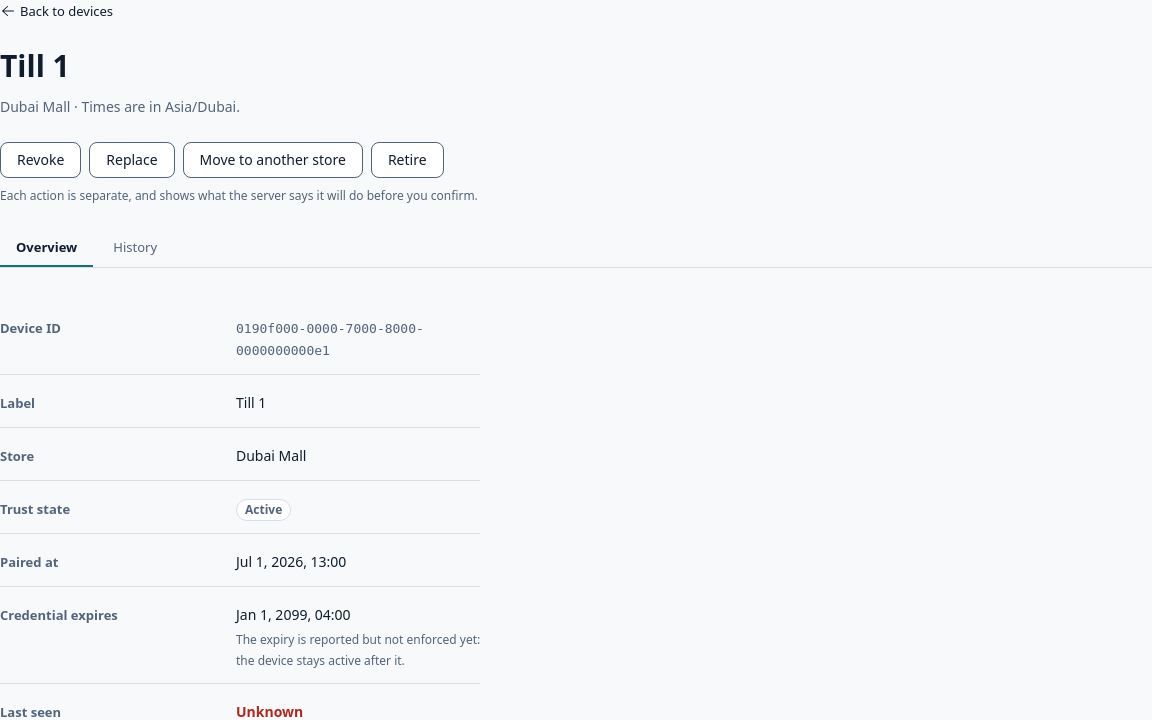
Test: Revoke (RT-372) › a reason is required before the impact is asked for
The width and height of the screenshot is (1152, 720).
Expected: the heading "Till 1" is shown, [0,45,70,86]
What coordinates should you click on to do the following:
click the button "Revoke"
I would click on:
 (41, 160)
Its box is [0,142,81,178].
(page scrolled)
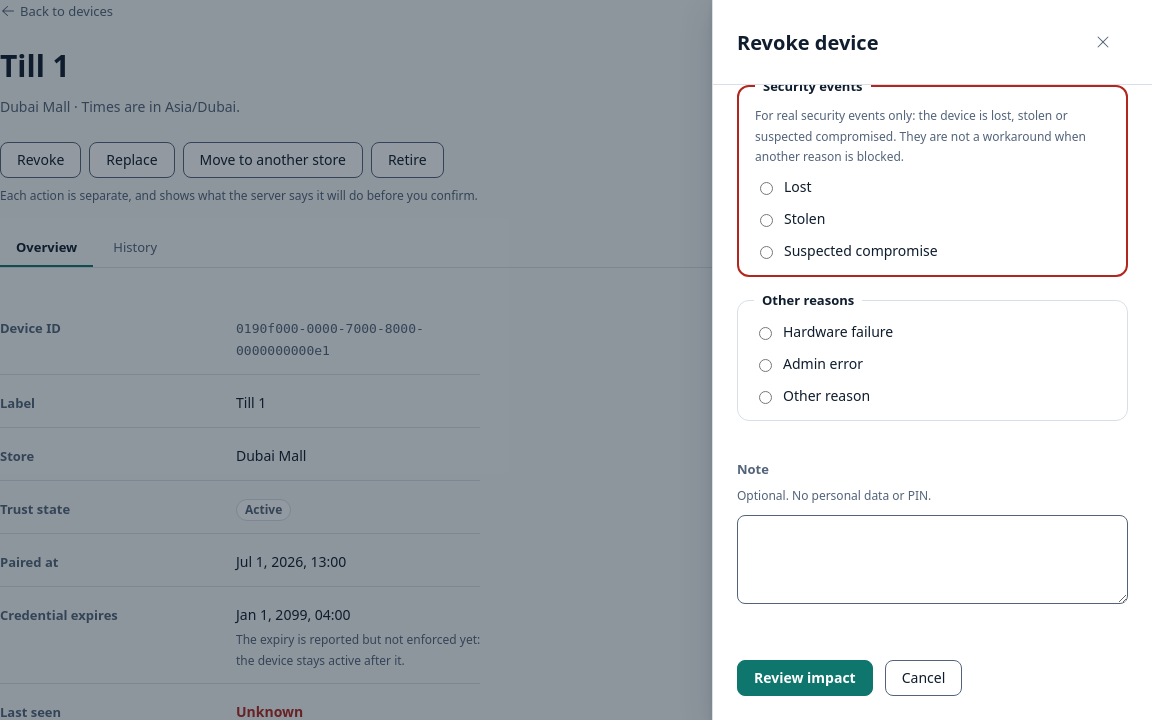
What coordinates should you click on to do the following:
click the button "Review impact"
I would click on:
 (805, 678)
Its box is [737,660,873,696].
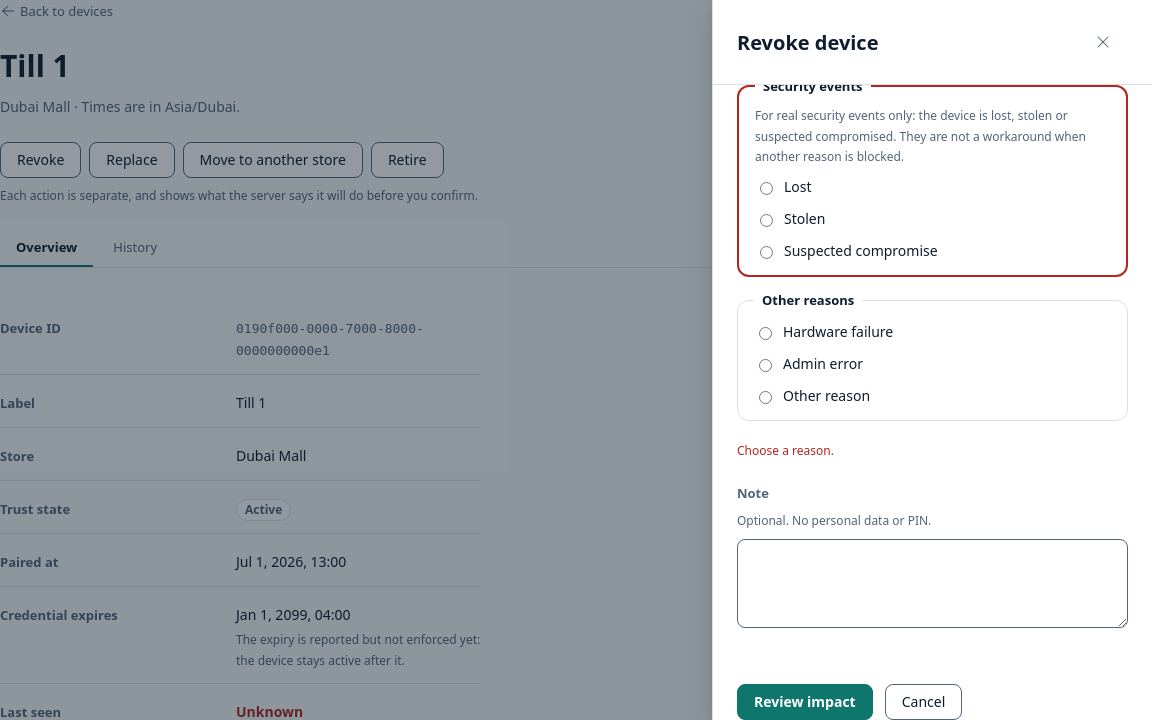
Result: the text "Choose a reason." is shown at [737,442,834,459]
